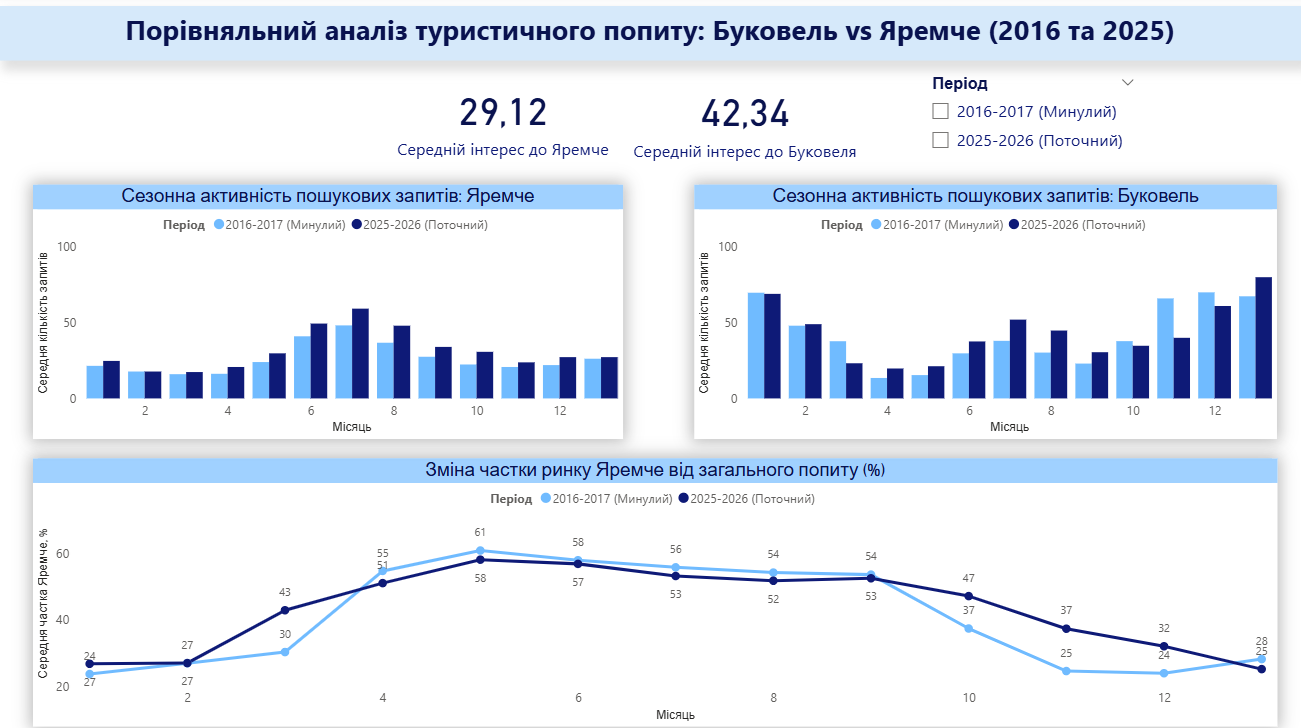

This screenshot's page, from the dashboard's own definition file:
{"tool":"powerbi","page":{"name":"Page 1","canvas":[1280,720],"ordinal":0},"visuals":[{"type":"lineChart","title":"Зміна частки ринку Яремче від загального попиту (%)","fields":{"Y":["Avg(Query1.yaremche_share)"],"Category":["Query1.Month_Index"],"Series":["Query1.Period_Full"]},"box":[34.3,454.2,1221.3,263.5],"z":0},{"type":"card","fields":{"Values":["Avg(Query1.yaremche)"]},"box":[377.4,72.7,236,97.4],"z":1},{"type":"card","fields":{"Values":["Avg(Query1.bukovel)"]},"box":[613.4,74.1,240.1,97.4],"z":2},{"type":"slicer","fields":{"Values":["Query1.Period_Full"]},"box":[904.3,72.7,223.7,97.4],"z":3},{"type":"clusteredColumnChart","title":"Сезонна активність пошукових запитів: Буковель","fields":{"Category":["Query1.Month_Index"],"Y":["Avg(Query1.bukovel)"],"Series":["Query1.Period_Full"]},"box":[683.4,185.2,572.2,249.7],"z":4},{"type":"clusteredColumnChart","title":"Сезонна активність пошукових запитів: Яремче","fields":{"Category":["Query1.Month_Index"],"Y":["Avg(Query1.yaremche)"],"Series":["Query1.Period_Full"]},"box":[34.3,185.2,579.1,249.7],"z":5},{"type":"textbox","box":[0,9.6,1280.3,53.5],"z":6}]}

Visuals, with their boxes in screenshot pixels (x1, y1, x2, y2), scaled from the page's 1280x720 canvas onto the 1301x728 screenshot:
"Зміна частки ринку Яремче від загального попиту (%)" lineChart: region(35, 459, 1276, 726)
card - Avg(Query1.yaremche): region(384, 74, 623, 172)
card - Avg(Query1.bukovel): region(623, 75, 868, 173)
slicer - Query1.Period_Full: region(919, 74, 1147, 172)
"Сезонна активність пошукових запитів: Буковель" clusteredColumnChart: region(695, 187, 1276, 440)
"Сезонна активність пошукових запитів: Яремче" clusteredColumnChart: region(35, 187, 623, 440)
textbox: region(0, 10, 1300, 64)
